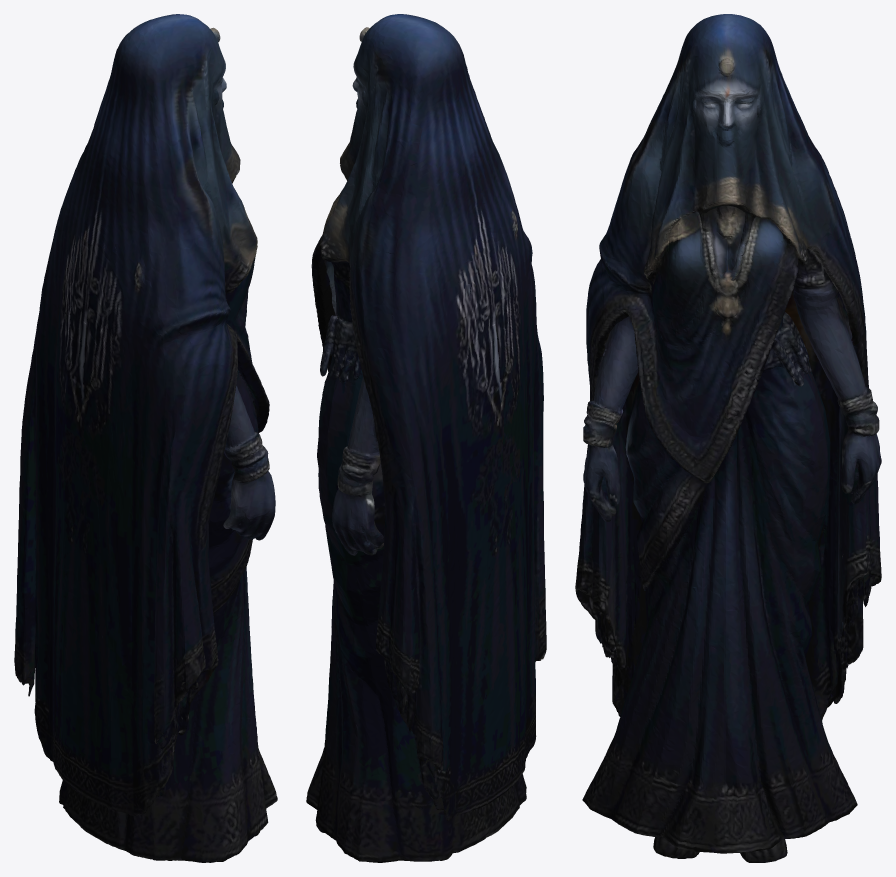
The model's file is modelo35.glb.
3 renders of one model, left to right at view 1: azimuth 30°, elevation 25°; view 2: azimuth 150°, elevation 25°; view 3: azimuth 270°, elevation 25°, orthographic.
Parts seen in each view (by area): view 1: tripo_node_69e1874b-925a-4534-8f21-8e339ba328b7; view 2: tripo_node_69e1874b-925a-4534-8f21-8e339ba328b7; view 3: tripo_node_69e1874b-925a-4534-8f21-8e339ba328b7.
Boxes of the visible parts, x1,y1,x2,y2 form: tripo_node_69e1874b-925a-4534-8f21-8e339ba328b7: (14,14,277,862); tripo_node_69e1874b-925a-4534-8f21-8e339ba328b7: (306,14,546,862); tripo_node_69e1874b-925a-4534-8f21-8e339ba328b7: (575,14,881,862).
Size of the model in its own units: 0.2452 by 0.9999 by 0.3434.
Materials: 1 (1 with a texture image).
